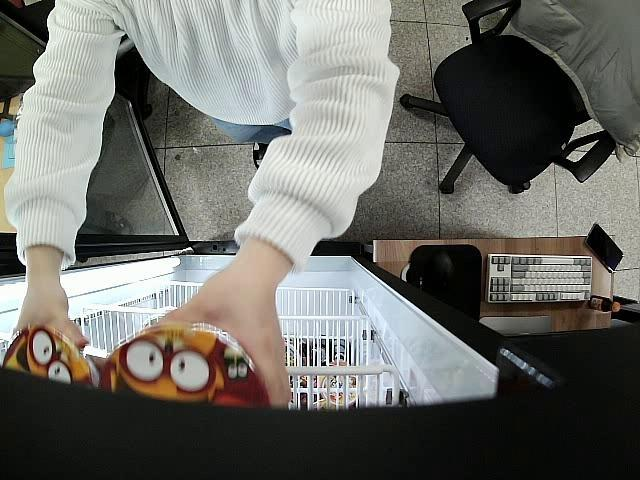05_nuguri_L: (98, 322, 274, 414), (0, 326, 100, 394)
